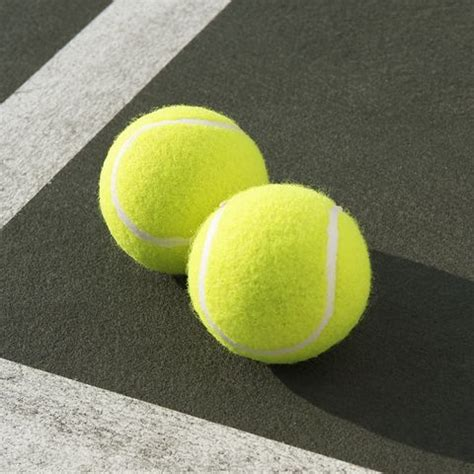tennis_ball: (184, 182, 371, 364), (97, 104, 270, 275)
